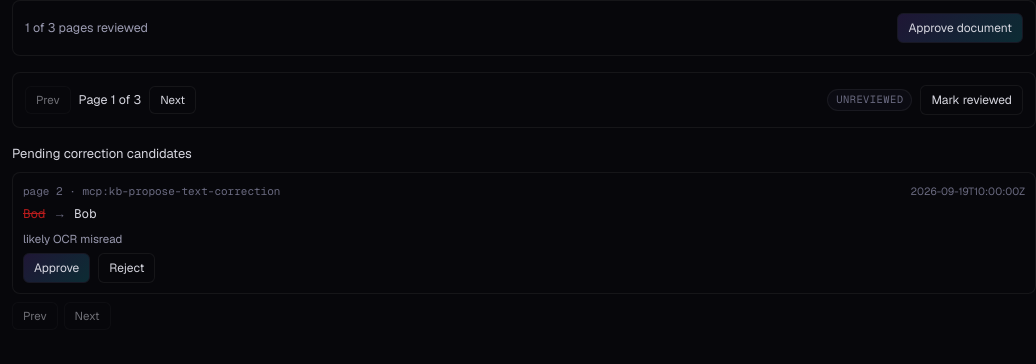
Scenario: ReviewTab › clears the approve result when the selected document changes
The image size is (1036, 364).
What coordinates should you click on to do the following:
click the button with test id "kb-review-approve"
I would click on:
 (960, 28)
Its box is [897,13,1023,43].
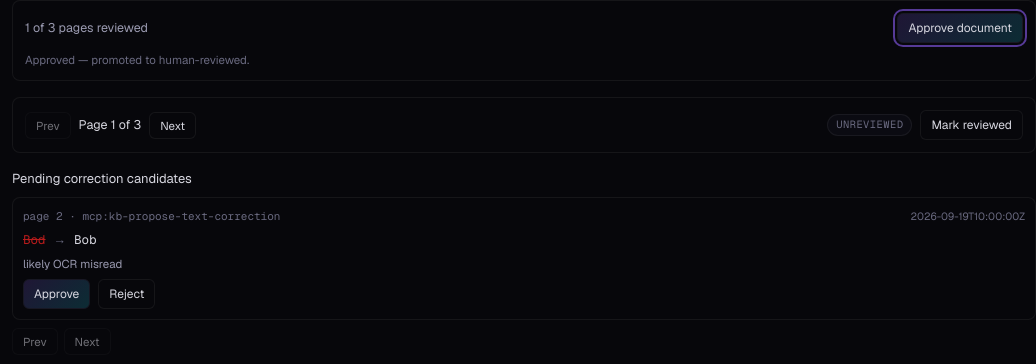
expect the text with test id "kb-review-approve-result" reads "Approved — promoted to human-reviewed.": met, box [25,52,249,67]
